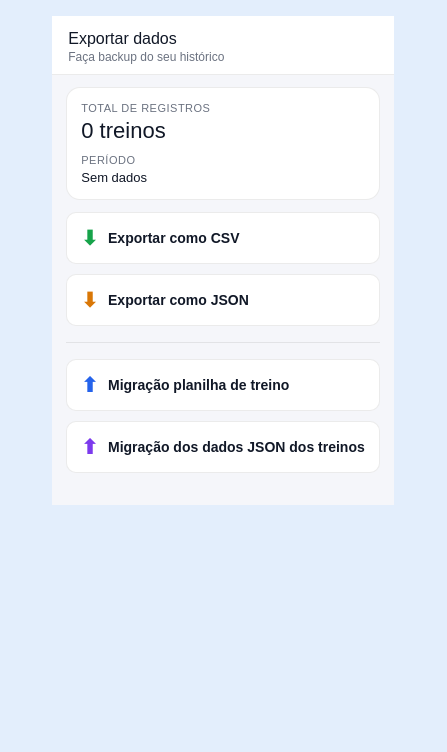
Exportar — Tela de exportação e importação inline › Toggle de importação › clicar em 'Migração planilha de treino' exibe a drop zone
The image size is (447, 752).
Click the button "⬆ Migração planilha de treino". click: (223, 385)
box: [66,359,380,411]
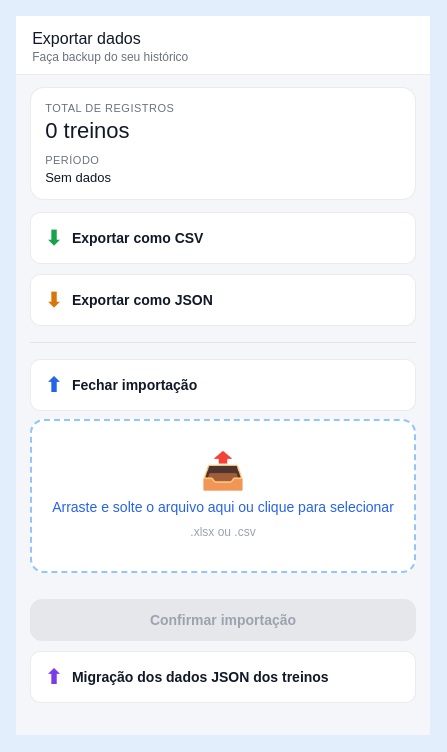
Expected: the text "Arraste e solte o arquivo aqui ou clique para selecionar" is shown, [52,499,394,515]
